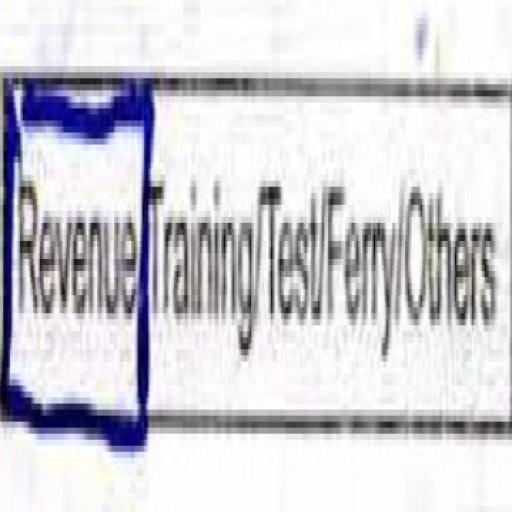check: (0, 0, 147, 477)
